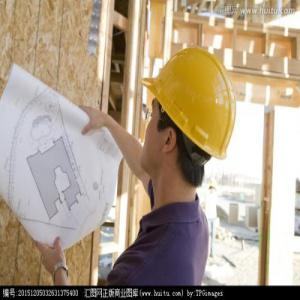yellow: (137, 44, 236, 195)
